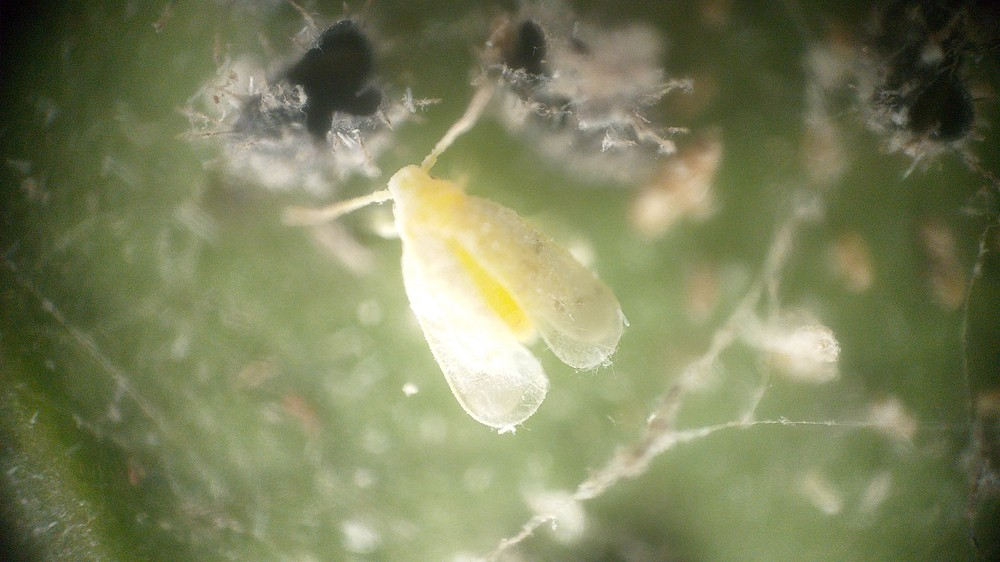Mosca Blanca: (275, 82, 656, 436)
